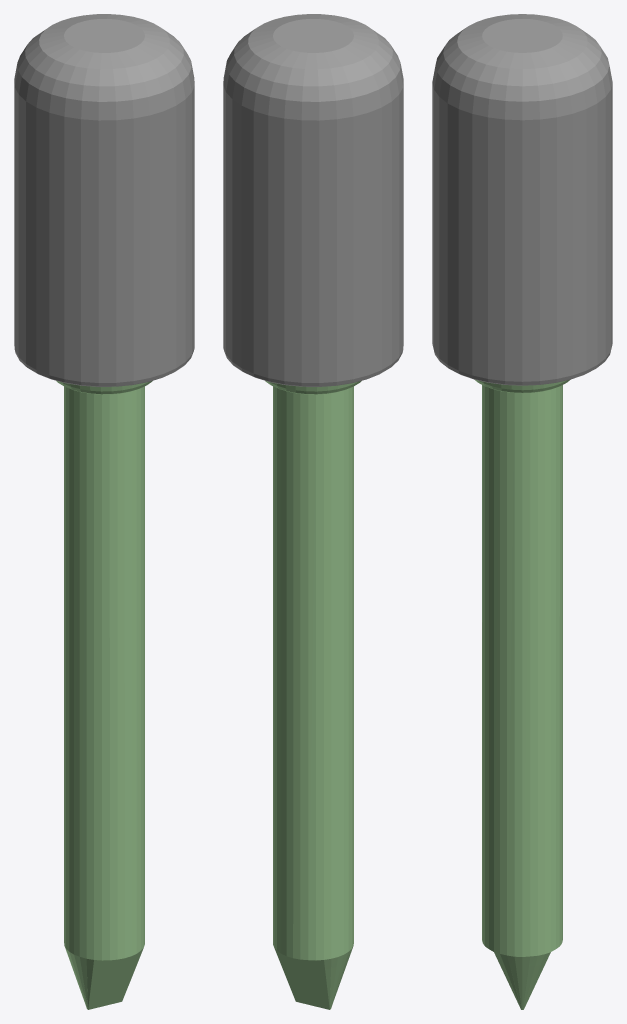
The model's file is old.glb.
The picture shows the model from 3 angles, left to right: view 1: azimuth 30°, elevation 25°; view 2: azimuth 150°, elevation 25°; view 3: azimuth 270°, elevation 25°; orthographic projection.
Visible parts, largest first — view 1: world; view 2: world; view 3: world.
Boxes of the visible parts, <box> form: world: <box>14,14,194,1009</box>; world: <box>223,14,403,1009</box>; world: <box>432,14,612,1009</box>.
Size of the model in its own units: 0.1692 by 1 by 0.1692.
